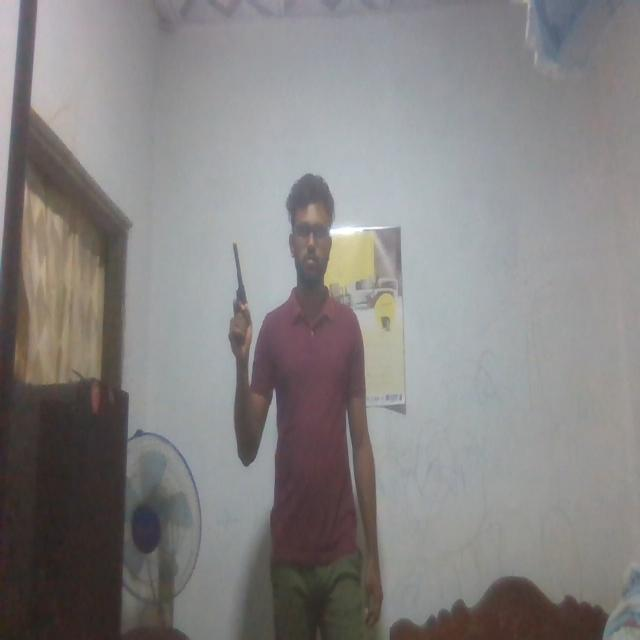Gun_Holder: (223, 243, 255, 334)
Person: (234, 176, 380, 640)
